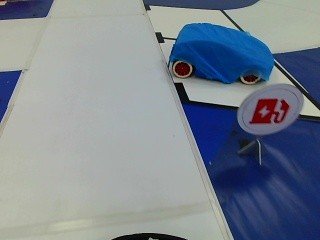battery: (242, 92, 295, 132)
car: (162, 22, 273, 86)
